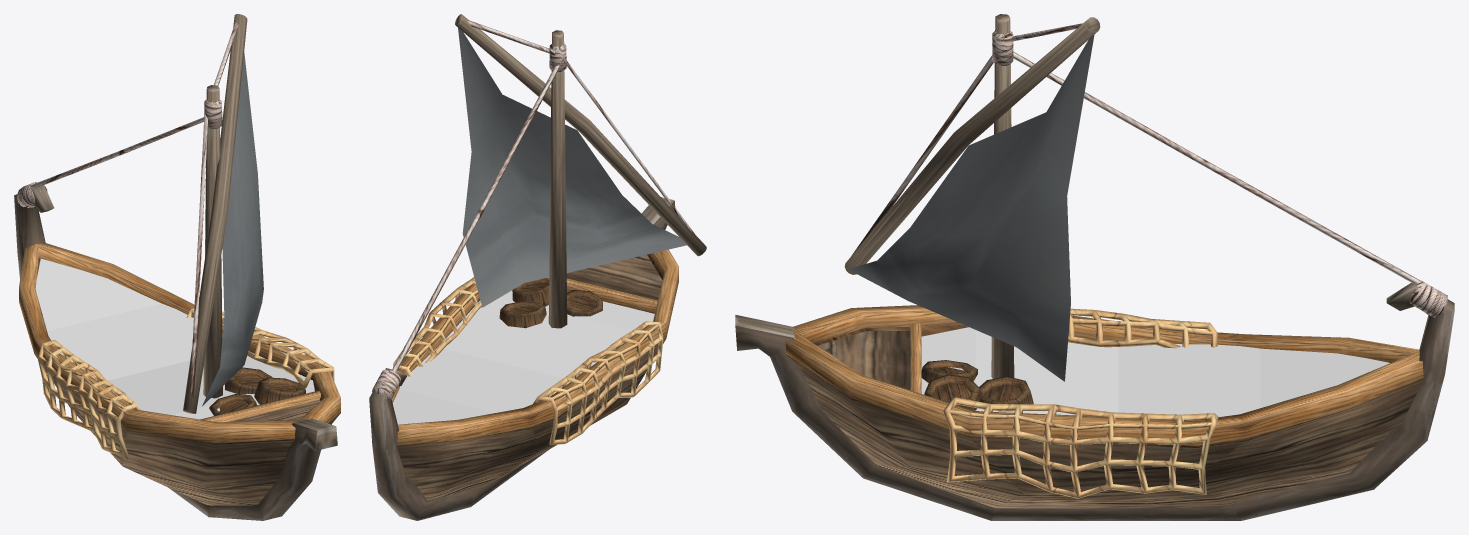
File: FishingShip2.fbx
The picture shows the model from 3 angles, left to right: view 1: azimuth 30°, elevation 25°; view 2: azimuth 150°, elevation 25°; view 3: azimuth 270°, elevation 25°; orthographic projection. The views are drawn at different scales.
Visible parts, largest first — view 1: FishingShip2, FishingShip2_Depth; view 2: FishingShip2, FishingShip2_Depth; view 3: FishingShip2, FishingShip2_Depth.
Part boxes in pixels (x1=…): FishingShip2: x1=14, y1=14, x2=340, y2=520; FishingShip2_Depth: x1=35, y1=258, x2=314, y2=419; FishingShip2: x1=369, y1=14, x2=706, y2=520; FishingShip2_Depth: x1=392, y1=290, x2=654, y2=424; FishingShip2: x1=735, y1=14, x2=1454, y2=520; FishingShip2_Depth: x1=921, y1=327, x2=1389, y2=417.
Bounding box in the file's own units: 290 × 602 × 733.
